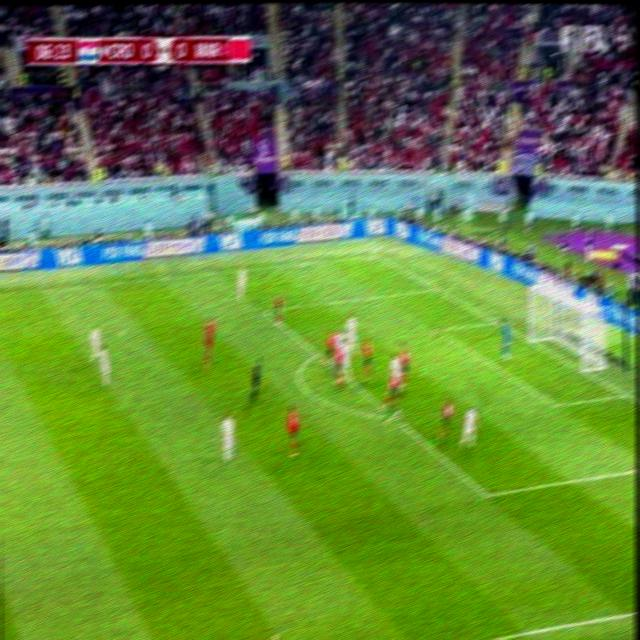bigarea_bottom_inner: (476, 482, 495, 507)
bigarea_top_inner: (256, 300, 272, 318)
bigarea_top_outter: (427, 279, 443, 296)
bottom_arc_area_intersection: (383, 405, 402, 426)
corner: (366, 249, 384, 261)
smallarea_bottom_inner: (545, 392, 565, 415)
smallarea_bottom_outter: (615, 385, 633, 401)
smallarea_top_inner: (429, 320, 445, 338)
smallarea_top_outter: (487, 313, 503, 331)
top_arc_area_intersection: (307, 342, 323, 361)
